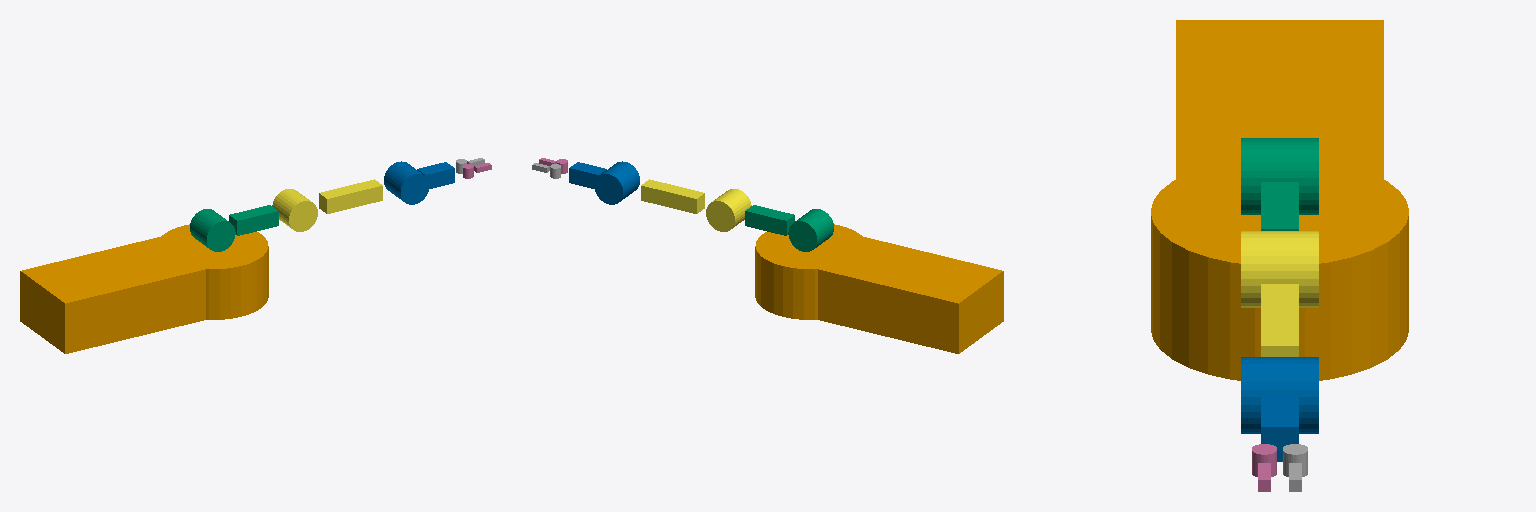
URDF robot description (owi):
<?xml version="1.0" encoding="utf-8"?>
<!-- =================================================================================== -->
<!-- |    This document was autogenerated by xacro from owi.xacro                      | -->
<!-- |    EDITING THIS FILE BY HAND IS NOT RECOMMENDED                                 | -->
<!-- =================================================================================== -->
<robot name="owi">
  <!-- robot model  -->
  <link name="base_link">
    <visual>
      <geometry>
        <cylinder length="0.05" radius="0.05"/>
      </geometry>
      <origin rpy="0 0 0" xyz="0 0 0.025"/>
    </visual>
    <visual>
      <geometry>
        <box size="0.15 0.08 0.05"/>
      </geometry>
      <origin rpy="0 0 0" xyz="-0.1 0 0.025"/>
    </visual>
    <collision>
      <geometry>
        <cylinder length="0.04" radius="0.05"/>
      </geometry>
      <origin rpy="0 0 0" xyz="0 0 0.025"/>
    </collision>
    <collision>
      <geometry>
        <box size="0.15 0.08 0.05"/>
      </geometry>
      <origin rpy="0 0 0" xyz="-0.1 0 0.025"/>
    </collision>
    <intnertial>
      <mass value="0.3"/>
      <inertia ixx="0.1" ixy="0.0" ixz="0.0" iyy="0.1" iyz="0.0" izz="0.1"/>
    </intnertial>
  </link>
  <joint name="jointLink1" type="revolute">
    <parent link="base_link"/>
    <child link="Link1"/>
    <axis xyz="0 0 1"/>
    <origin rpy="0.0 0 0" xyz="0 0 0.065"/>
    <limit effort="100" lower="-1.57079632679" upper="1.57079632679" velocity="1"/>
  </joint>
  <link name="Link1"/>
  <joint name="jointLink2" type="revolute">
    <parent link="Link1"/>
    <child link="Link2"/>
    <axis xyz="0 0 1"/>
    <origin rpy="1.57079632679 0 0" xyz="0 0 0"/>
    <limit effort="100" lower="0.0" upper="3.14159265359" velocity="1"/>
  </joint>
  <link name="Link2">
    <!-- elbow -->
    <visual>
      <geometry>
        <cylinder length="0.03" radius="0.015"/>
      </geometry>
      <origin rpy="0 0 0" xyz="0 0 0"/>
    </visual>
    <collision>
      <geometry>
        <cylinder length="0.03" radius="0.015"/>
      </geometry>
      <origin rpy="0 0 0" xyz="0 0 0"/>
    </collision>
    <!-- axial -->
    <visual>
      <geometry>
        <box size="0.015 0.015 0"/>
      </geometry>
      <origin rpy="0 0 0" xyz="0 0 0.0"/>
    </visual>
    <collision>
      <geometry>
        <box size="0.015 0.015 0.0"/>
      </geometry>
      <origin rpy="0 0 0" xyz="0 0 0.0"/>
    </collision>
    <!-- radial -->
    <visual>
      <geometry>
        <box size="0.0425 0.015 0.015"/>
      </geometry>
      <origin rpy="0 0 0" xyz="0.0425 0 0"/>
    </visual>
    <collision>
      <geometry>
        <box size="0.0425 0.015 0.015"/>
      </geometry>
      <origin rpy="0 0 0" xyz="0.0425 0 0"/>
    </collision>
    <intnertial>
      <mass value="0.1"/>
      <inertia ixx="0.033" ixy="0.0" ixz="0.0" iyy="0.033" iyz="0.0" izz="0.033"/>
    </intnertial>
  </link>
  <joint name="jointLink3" type="revolute">
    <parent link="Link2"/>
    <child link="Link3"/>
    <axis xyz="0 0 1"/>
    <origin rpy="0.0 0 0" xyz="0.085 0 0"/>
    <limit effort="100" lower="-2.35619449019" upper="2.35619449019" velocity="1"/>
  </joint>
  <link name="Link3">
    <!-- elbow -->
    <visual>
      <geometry>
        <cylinder length="0.03" radius="0.015"/>
      </geometry>
      <origin rpy="0 0 0" xyz="0 0 0"/>
    </visual>
    <collision>
      <geometry>
        <cylinder length="0.03" radius="0.015"/>
      </geometry>
      <origin rpy="0 0 0" xyz="0 0 0"/>
    </collision>
    <!-- axial -->
    <visual>
      <geometry>
        <box size="0.015 0.015 0"/>
      </geometry>
      <origin rpy="0 0 0" xyz="0 0 0.0"/>
    </visual>
    <collision>
      <geometry>
        <box size="0.015 0.015 0.0"/>
      </geometry>
      <origin rpy="0 0 0" xyz="0 0 0.0"/>
    </collision>
    <!-- radial -->
    <visual>
      <geometry>
        <box size="0.0575 0.015 0.015"/>
      </geometry>
      <origin rpy="0 0 0" xyz="0.0575 0 0"/>
    </visual>
    <collision>
      <geometry>
        <box size="0.0575 0.015 0.015"/>
      </geometry>
      <origin rpy="0 0 0" xyz="0.0575 0 0"/>
    </collision>
    <intnertial>
      <mass value="0.1"/>
      <inertia ixx="0.033" ixy="0.0" ixz="0.0" iyy="0.033" iyz="0.0" izz="0.033"/>
    </intnertial>
  </link>
  <joint name="jointLink4" type="revolute">
    <parent link="Link3"/>
    <child link="Link4"/>
    <axis xyz="0 0 1"/>
    <origin rpy="0.0 0 0" xyz="0.115 0 0"/>
    <limit effort="100" lower="-1.0471975512" upper="1.0471975512" velocity="1"/>
  </joint>
  <link name="Link4">
    <!-- elbow -->
    <visual>
      <geometry>
        <cylinder length="0.03" radius="0.015"/>
      </geometry>
      <origin rpy="0 0 0" xyz="0 0 0"/>
    </visual>
    <collision>
      <geometry>
        <cylinder length="0.03" radius="0.015"/>
      </geometry>
      <origin rpy="0 0 0" xyz="0 0 0"/>
    </collision>
    <!-- axial -->
    <visual>
      <geometry>
        <box size="0.015 0.015 0"/>
      </geometry>
      <origin rpy="0 0 0" xyz="0 0 0.0"/>
    </visual>
    <collision>
      <geometry>
        <box size="0.015 0.015 0.0"/>
      </geometry>
      <origin rpy="0 0 0" xyz="0 0 0.0"/>
    </collision>
    <!-- radial -->
    <visual>
      <geometry>
        <box size="0.03 0.015 0.015"/>
      </geometry>
      <origin rpy="0 0 0" xyz="0.03 0 0"/>
    </visual>
    <collision>
      <geometry>
        <box size="0.03 0.015 0.015"/>
      </geometry>
      <origin rpy="0 0 0" xyz="0.03 0 0"/>
    </collision>
    <intnertial>
      <mass value="0.1"/>
      <inertia ixx="0.033" ixy="0.0" ixz="0.0" iyy="0.033" iyz="0.0" izz="0.033"/>
    </intnertial>
  </link>
  <joint name="dummy" type="fixed">
    <parent link="Link4"/>
    <child link="grip_base"/>
    <origin rpy="0 0 0" xyz="0.06 0 0"/>
  </joint>
  <link name="grip_base">
    <visual>
      <geometry>
        <box size="0 0 0"/>
      </geometry>
      <origin rpy="0 0 0" xyz="0 0 0"/>
    </visual>
  </link>
  <joint name="jointRgripper" type="revolute">
    <parent link="grip_base"/>
    <child link="Rgripper"/>
    <axis xyz="0 0 1"/>
    <origin rpy="1.57079632679 0 0" xyz="0 0 0.006"/>
    <limit effort="100" lower="0.0" upper="1.57079632679" velocity="1"/>
  </joint>
  <joint name="jointLgripper" type="revolute">
    <parent link="grip_base"/>
    <child link="Lgripper"/>
    <axis xyz="0 0 1"/>
    <origin rpy="-1.57079632679 0 0" xyz="0 0 -0.006"/>
    <limit effort="100" lower="0.0" upper="1.57079632679" velocity="1"/>
    <mimic joint="jointRgripper"/>
  </joint>
  <link name="Rgripper">
    <!-- elbow -->
    <visual>
      <geometry>
        <cylinder length="0.01" radius="0.005"/>
      </geometry>
      <origin rpy="0 0 0" xyz="0 0 0"/>
    </visual>
    <collision>
      <geometry>
        <cylinder length="0.01" radius="0.005"/>
      </geometry>
      <origin rpy="0 0 0" xyz="0 0 0"/>
    </collision>
    <!-- axial -->
    <visual>
      <geometry>
        <box size="0.005 0.005 0"/>
      </geometry>
      <origin rpy="0 0 0" xyz="0 0 0.0"/>
    </visual>
    <collision>
      <geometry>
        <box size="0.005 0.005 0.0"/>
      </geometry>
      <origin rpy="0 0 0" xyz="0 0 0.0"/>
    </collision>
    <!-- radial -->
    <visual>
      <geometry>
        <box size="0.015 0.005 0.005"/>
      </geometry>
      <origin rpy="0 0 0" xyz="0.015 0 0"/>
    </visual>
    <collision>
      <geometry>
        <box size="0.015 0.005 0.005"/>
      </geometry>
      <origin rpy="0 0 0" xyz="0.015 0 0"/>
    </collision>
    <intnertial>
      <mass value="0.1"/>
      <inertia ixx="0.033" ixy="0.0" ixz="0.0" iyy="0.033" iyz="0.0" izz="0.033"/>
    </intnertial>
  </link>
  <link name="Lgripper">
    <!-- elbow -->
    <visual>
      <geometry>
        <cylinder length="0.01" radius="0.005"/>
      </geometry>
      <origin rpy="0 0 0" xyz="0 0 0"/>
    </visual>
    <collision>
      <geometry>
        <cylinder length="0.01" radius="0.005"/>
      </geometry>
      <origin rpy="0 0 0" xyz="0 0 0"/>
    </collision>
    <!-- axial -->
    <visual>
      <geometry>
        <box size="0.005 0.005 0"/>
      </geometry>
      <origin rpy="0 0 0" xyz="0 0 0.0"/>
    </visual>
    <collision>
      <geometry>
        <box size="0.005 0.005 0.0"/>
      </geometry>
      <origin rpy="0 0 0" xyz="0 0 0.0"/>
    </collision>
    <!-- radial -->
    <visual>
      <geometry>
        <box size="0.015 0.005 0.005"/>
      </geometry>
      <origin rpy="0 0 0" xyz="0.015 0 0"/>
    </visual>
    <collision>
      <geometry>
        <box size="0.015 0.005 0.005"/>
      </geometry>
      <origin rpy="0 0 0" xyz="0.015 0 0"/>
    </collision>
    <intnertial>
      <mass value="0.1"/>
      <inertia ixx="0.033" ixy="0.0" ixz="0.0" iyy="0.033" iyz="0.0" izz="0.033"/>
    </intnertial>
  </link>
</robot>

--- Render facts (derived) ---
Views: 3 orthographic renders of the robot side by side, from view 1: azimuth 30°, elevation 25°; view 2: azimuth 150°, elevation 25°; view 3: azimuth 270°, elevation 25°.
Robot: owi — 8 links, 7 joints (6 revolute, 1 fixed); root link base_link; default pose: every joint at zero.
Links seen in each view (by area): view 1: base_link, Link3, Link2, Link4; view 2: base_link, Link3, Link2, Link4; view 3: base_link, Link3, Link2, Link4, Rgripper, Lgripper.
Boxes of the visible links, bbox=[...] form: base_link: bbox=[20, 224, 268, 353]; Link3: bbox=[272, 179, 382, 231]; Link2: bbox=[190, 205, 278, 251]; Link4: bbox=[384, 161, 454, 204]; base_link: bbox=[755, 224, 1003, 353]; Link3: bbox=[641, 179, 751, 231]; Link2: bbox=[745, 205, 833, 251]; Link4: bbox=[569, 161, 639, 204]; base_link: bbox=[1151, 20, 1408, 380]; Link3: bbox=[1241, 231, 1318, 356]; Link2: bbox=[1241, 138, 1318, 230]; Link4: bbox=[1241, 357, 1318, 461]; Rgripper: bbox=[1252, 444, 1276, 491]; Lgripper: bbox=[1283, 444, 1307, 491].
Size in the robot's own frame: 0.4575 by 0.1 by 0.08 metres.
Geometry: primitives only (box / cylinder / sphere), no mesh files.